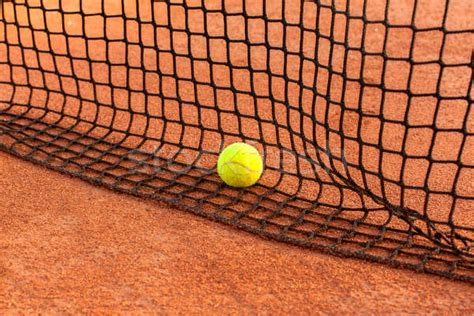tennis_ball: (217, 142, 263, 188)
